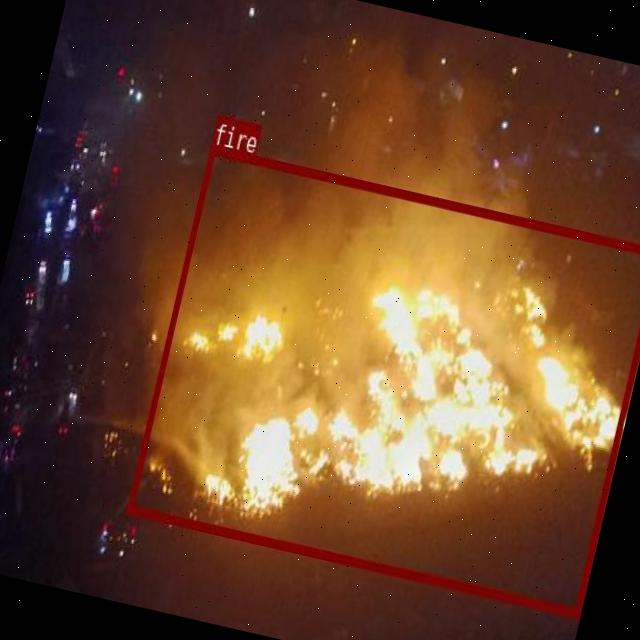fire: (126, 144, 640, 614)
